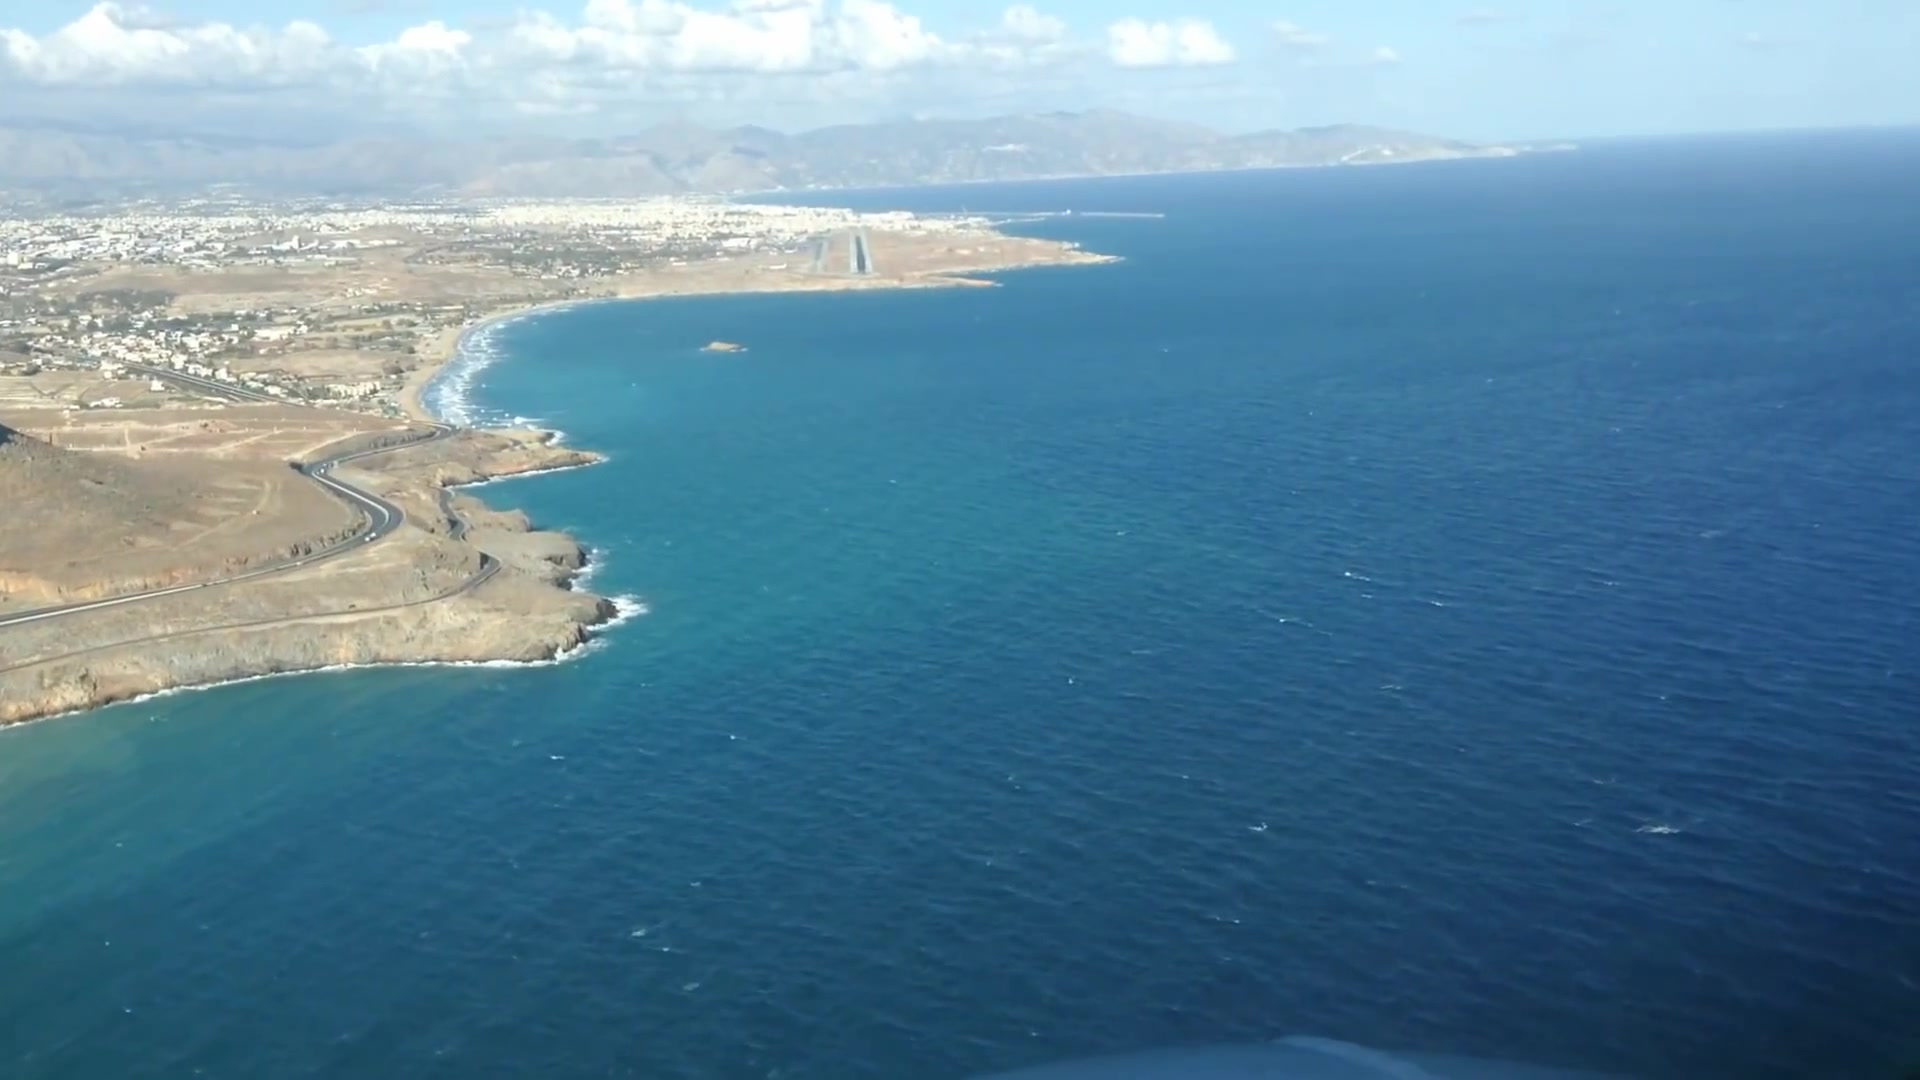runway: (849, 232, 874, 276)
